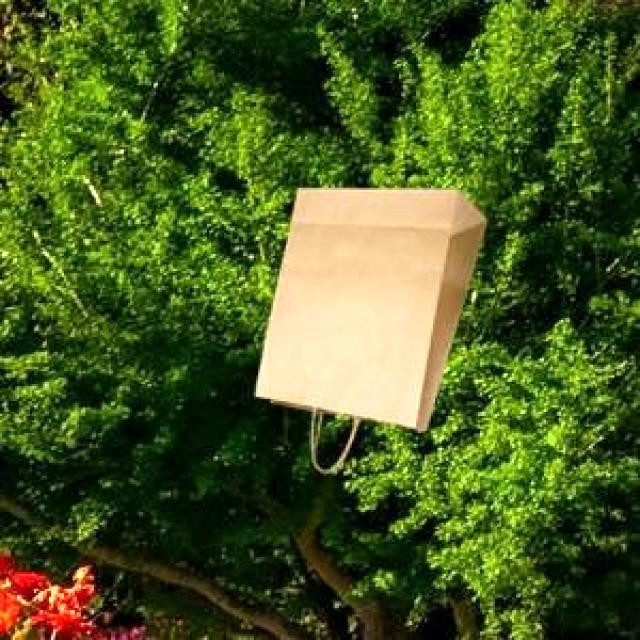Paper_Bag: (253, 184, 483, 453)
